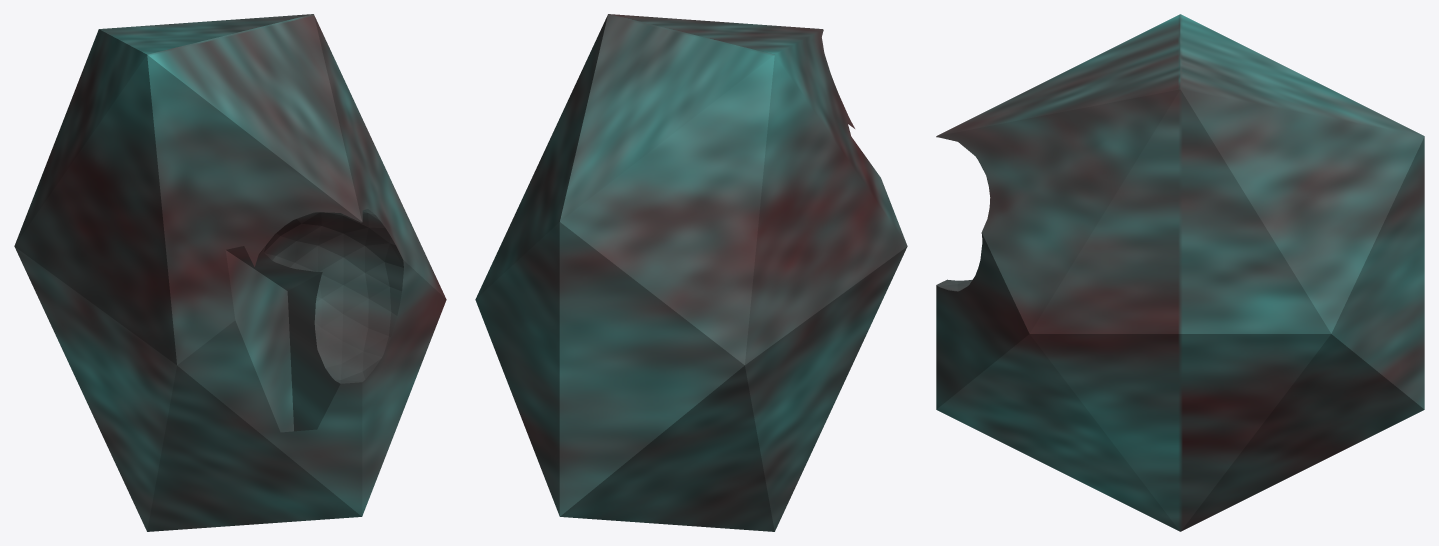
The picture shows the model from 3 angles, left to right: view 1: azimuth 30°, elevation 25°; view 2: azimuth 150°, elevation 25°; view 3: azimuth 270°, elevation 25°; orthographic projection. The views are drawn at different scales.
Parts seen in each view (by area): view 1: geometry_0; view 2: geometry_0; view 3: geometry_0.
Part boxes in pixels (left/top/right/bottom): geometry_0: left=14, top=14, right=446, bottom=531; geometry_0: left=475, top=14, right=907, bottom=531; geometry_0: left=936, top=14, right=1424, bottom=531.
Bounding box in the file's own units: 0.6017 × 1.02 × 1.02.
Materials: 1 (1 with a texture image).
